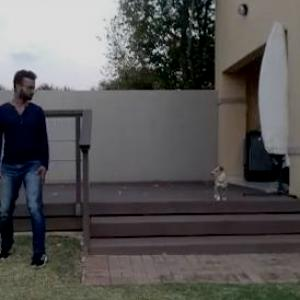follow: (0, 58, 54, 270)
